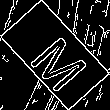M_NE: (20, 21, 90, 89)
